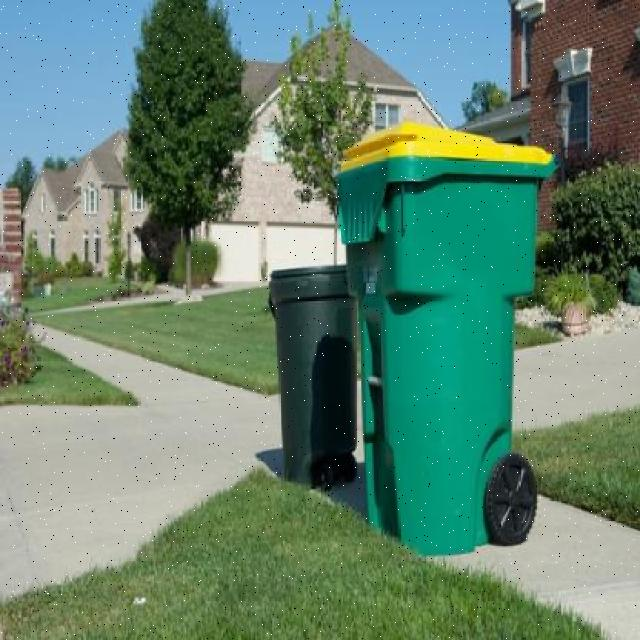garbage container: (331, 120, 557, 555), (262, 256, 364, 496)
